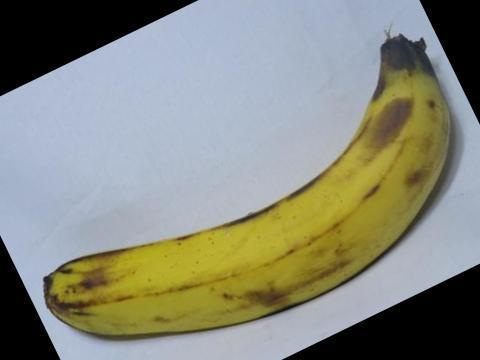ripe: (34, 27, 449, 341)
